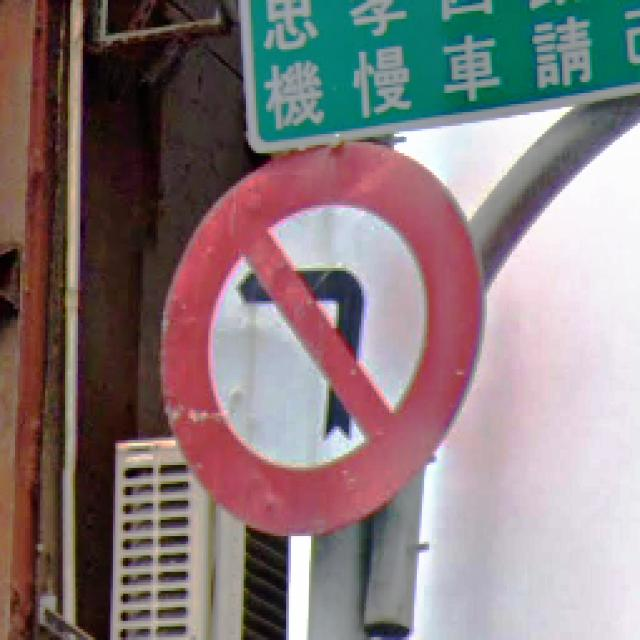noturnleft: (156, 137, 487, 536)
